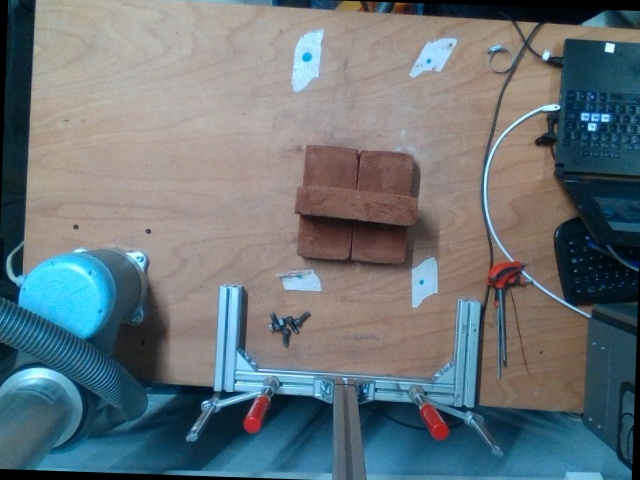brick-side: (295, 186, 417, 225)
